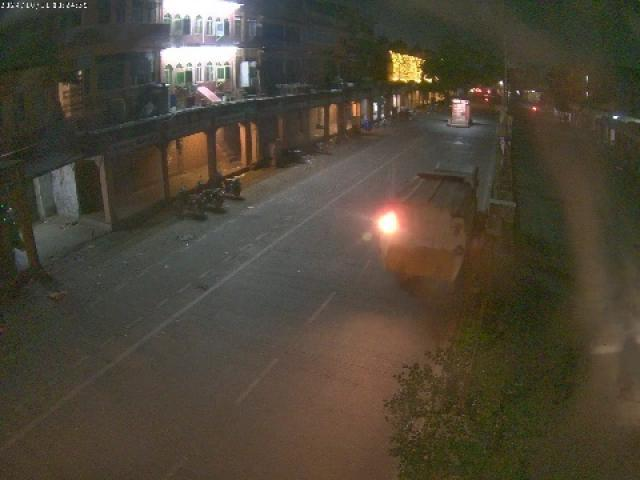truck: (374, 154, 486, 292)
